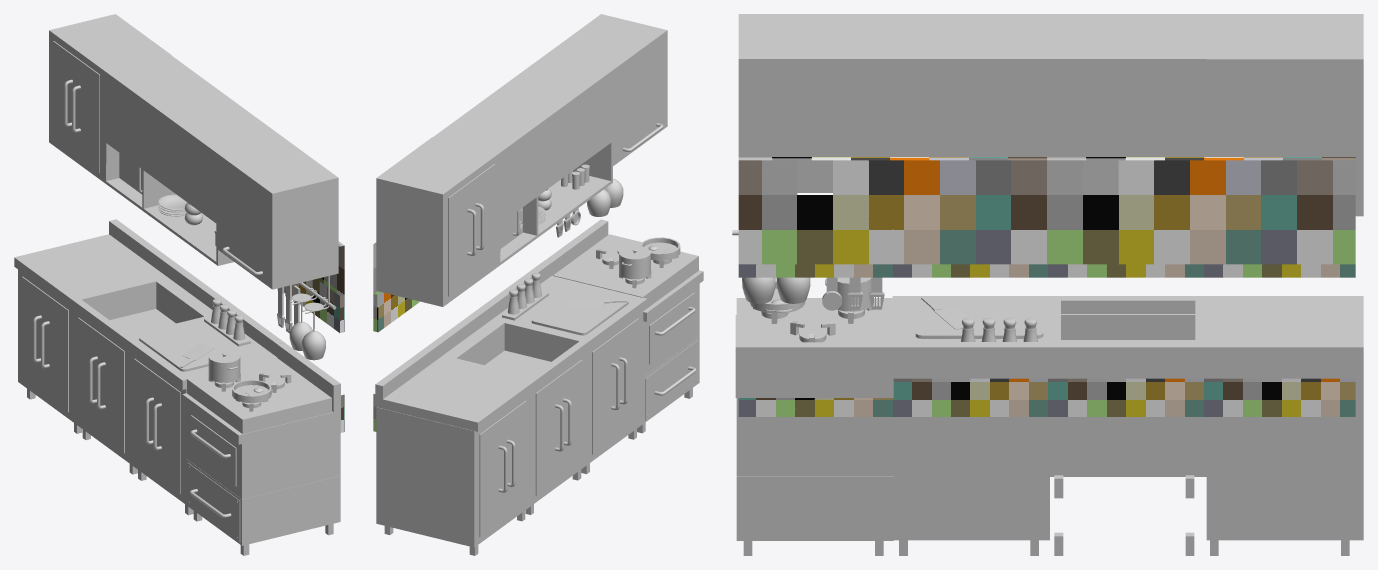
File: kitchen.fbx
3 renders of one model, left to right at view 1: azimuth 30°, elevation 25°; view 2: azimuth 150°, elevation 25°; view 3: azimuth 270°, elevation 25°, orthographic. The views are drawn at different scales.
Visible parts, largest first — view 1: kitchen, kitchen_squareTile; view 2: kitchen, kitchen_squareTile; view 3: kitchen, kitchen_squareTile.
Part boxes in pixels (x1,y1,x2,y2): kitchen: (14,14,340,555); kitchen_squareTile: (284,241,344,432); kitchen: (375,14,703,555); kitchen_squareTile: (373,242,419,431); kitchen: (732,14,1363,555); kitchen_squareTile: (738,157,1355,416).
Size of the model in its own units: 103 by 314 by 360.
